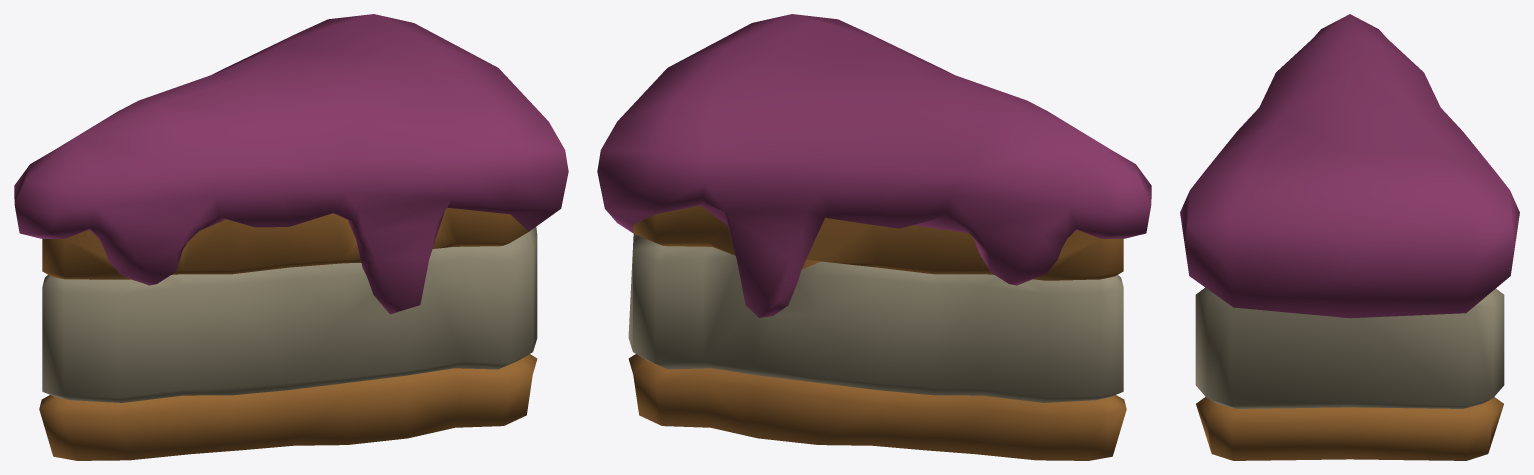
Rendered from food_cake_01.fbx.
3 renders of one model, left to right at view 1: azimuth 30°, elevation 25°; view 2: azimuth 150°, elevation 25°; view 3: azimuth 270°, elevation 25°, orthographic. The views are drawn at different scales.
Parts seen in each view (by area): view 1: food_cake_01; view 2: food_cake_01; view 3: food_cake_01.
Boxes of the visible parts, bbox=[...] form: food_cake_01: bbox=[14, 14, 568, 460]; food_cake_01: bbox=[597, 14, 1151, 460]; food_cake_01: bbox=[1180, 14, 1519, 460].
Bounding box in the file's own units: 62.09 × 41.2 × 41.73.
